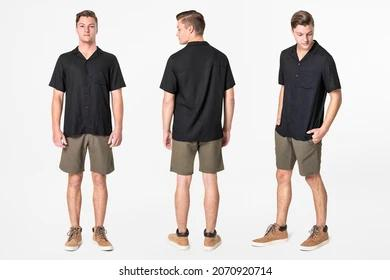Shorts: (59, 133, 116, 176), (273, 129, 322, 177), (167, 137, 226, 176)
short sleeve shirt: (159, 40, 236, 142), (48, 45, 127, 138), (275, 40, 342, 141)
